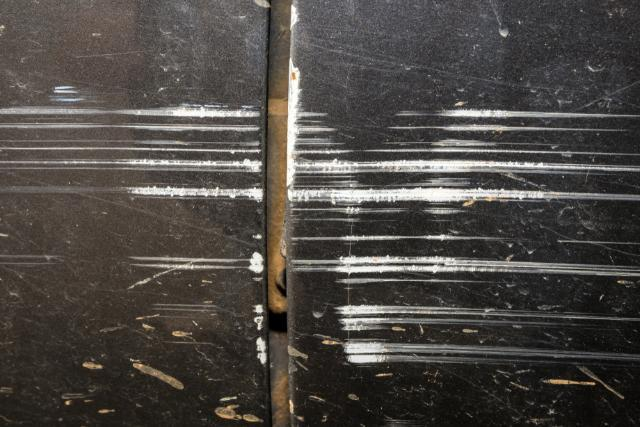Door: (282, 22, 640, 427), (0, 65, 262, 425)
